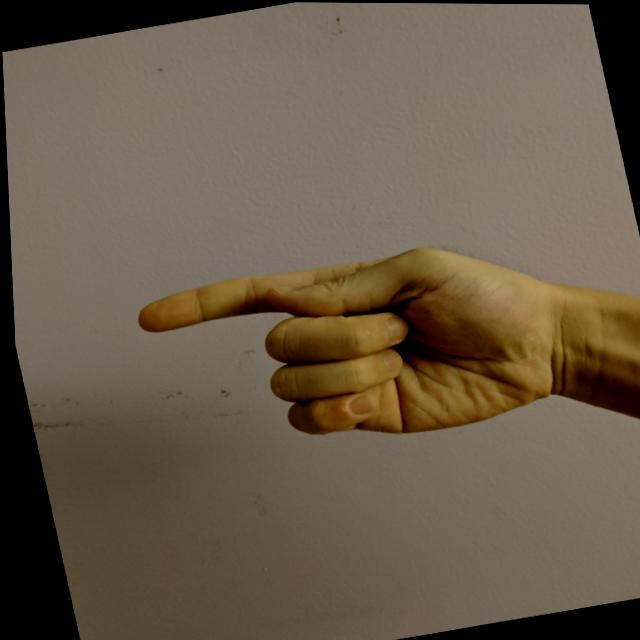G: (116, 215, 577, 483)
